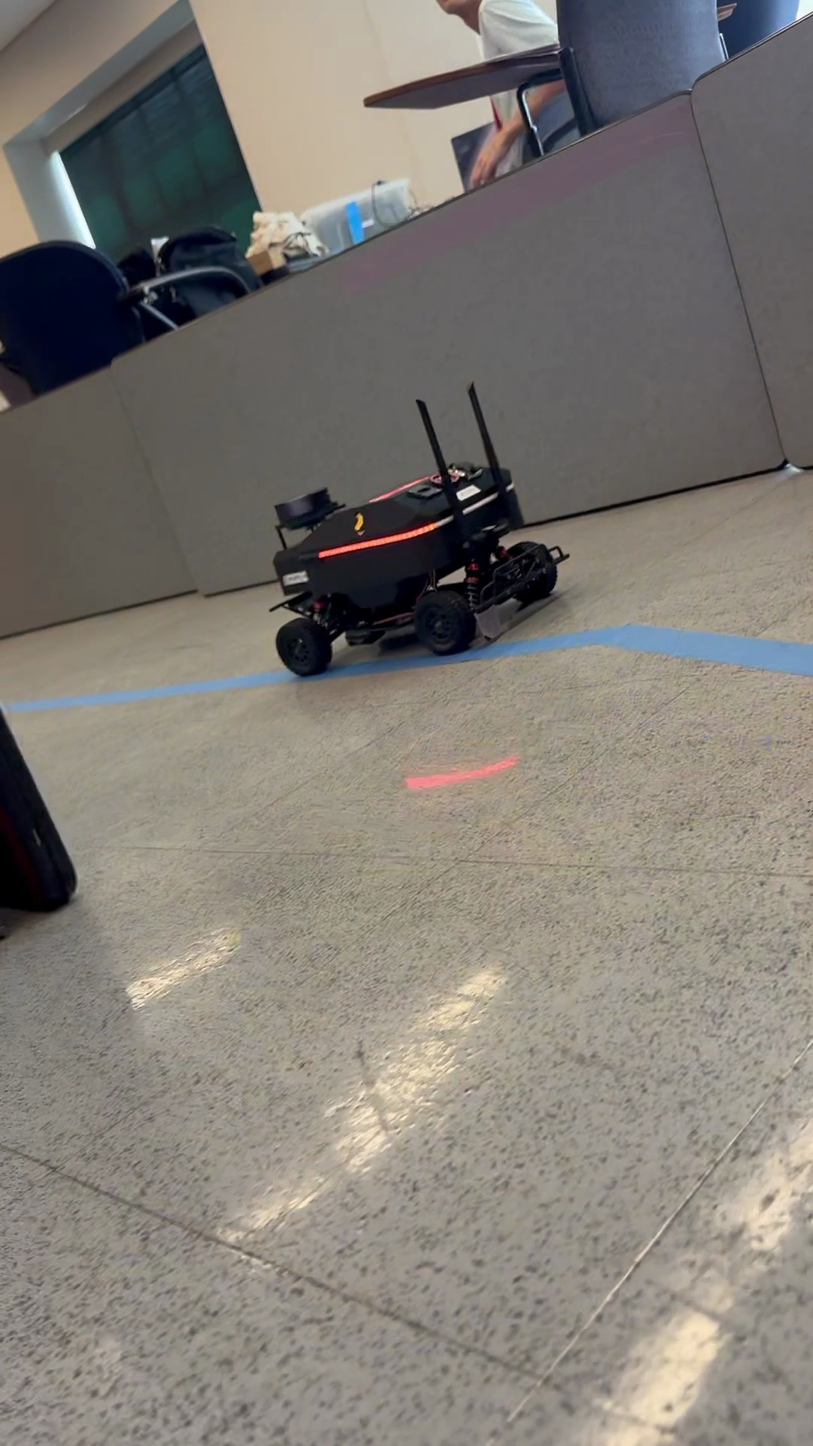racecar: (265, 383, 571, 678)
